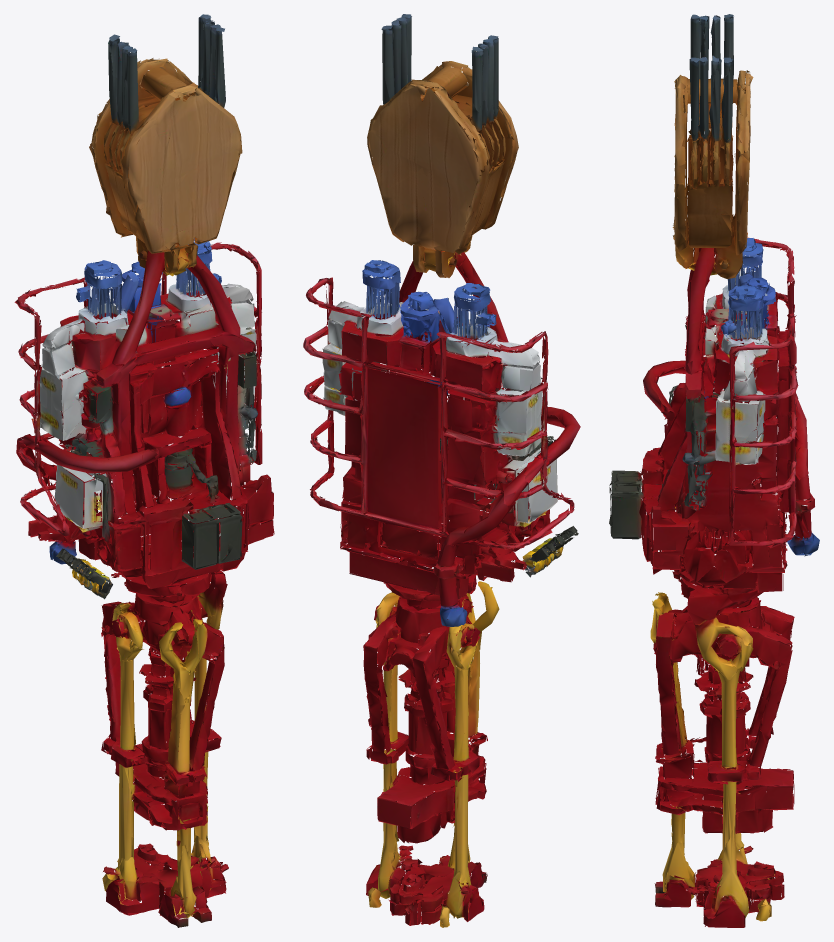
File: topdrive.glb
The picture shows the model from 3 angles, left to right: view 1: azimuth 30°, elevation 25°; view 2: azimuth 150°, elevation 25°; view 3: azimuth 270°, elevation 25°; orthographic projection.
Visible parts, largest first — view 1: model; view 2: model; view 3: model.
Boxes of the visible parts, x1,y1,x2,y2 form: model: (14,14,274,927); model: (303,14,580,927); model: (609,14,819,927).
Size of the model in its own units: 1.52 by 5.54 by 1.22.
Materials: 1 (1 with a texture image).
